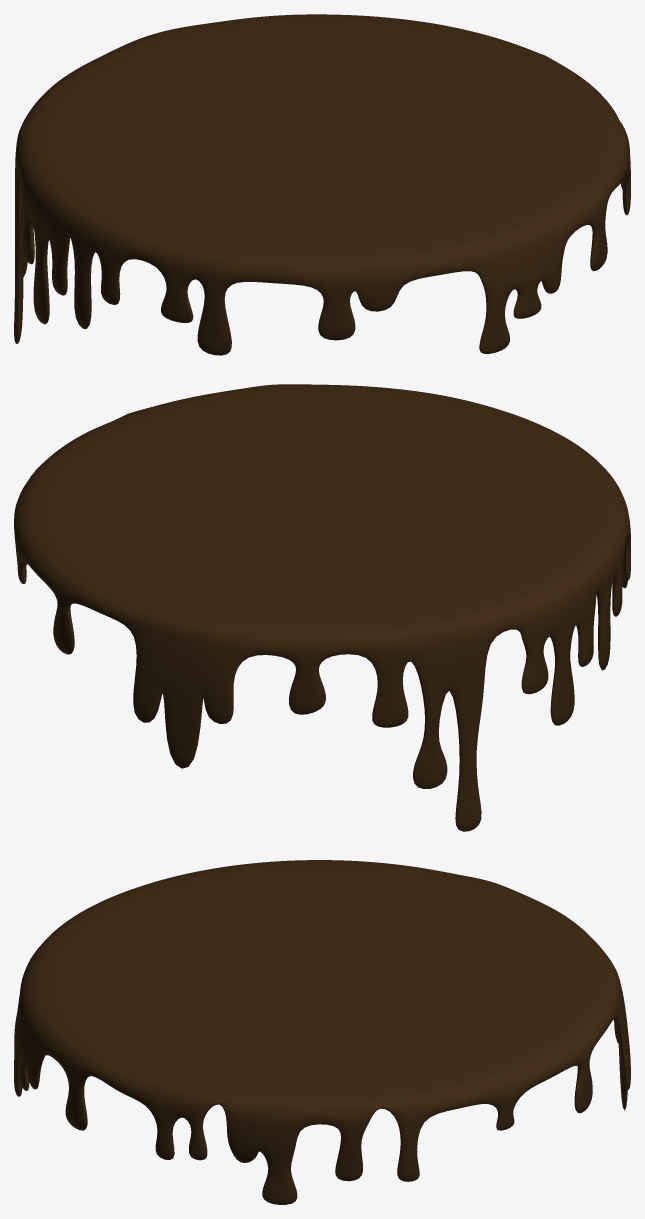
The model's file is GlazeChoco2.glb.
3 renders of one model, top to bottom at view 1: azimuth 30°, elevation 25°; view 2: azimuth 150°, elevation 25°; view 3: azimuth 270°, elevation 25°, orthographic. The views are drawn at different scales.
Visible parts, largest first — view 1: Cylinder.004; view 2: Cylinder.004; view 3: Cylinder.004.
Part boxes in pixels (x1,y1,x2,y2): Cylinder.004: [14, 14, 630, 355]; Cylinder.004: [14, 384, 630, 831]; Cylinder.004: [14, 860, 630, 1204].
Size of the model in its own units: 2.02 by 0.7643 by 2.08.
